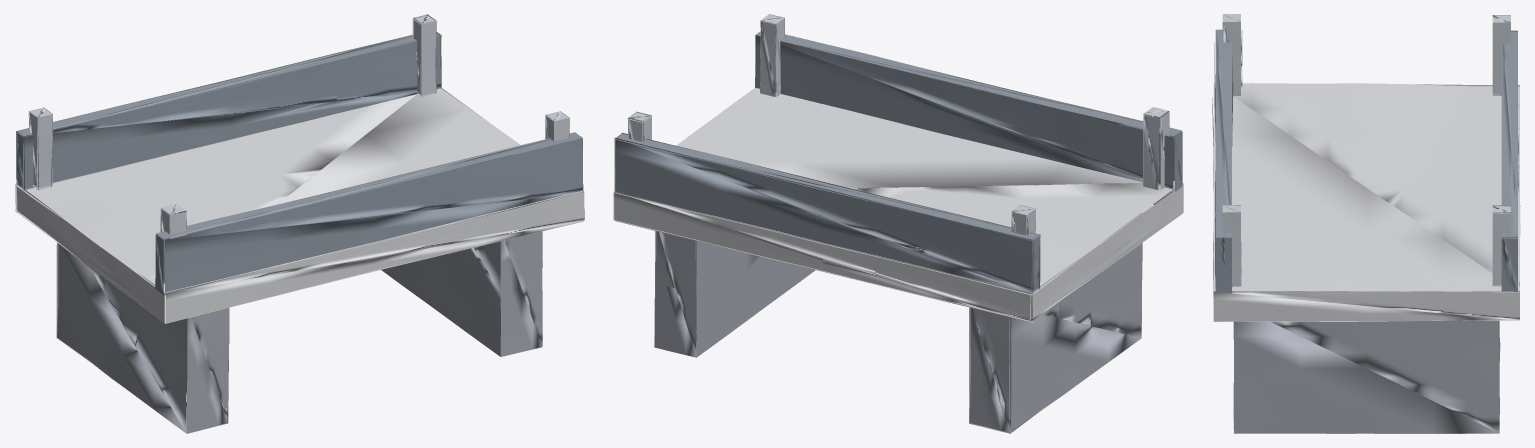
File: bridge.glb
The picture shows the model from 3 angles, left to right: view 1: azimuth 30°, elevation 25°; view 2: azimuth 150°, elevation 25°; view 3: azimuth 270°, elevation 25°; orthographic projection.
Parts seen in each view (by area): view 1: MetroBridge; view 2: MetroBridge; view 3: MetroBridge.
Part boxes in pixels (<box>): MetroBridge: <box>15,14,584,433</box>; MetroBridge: <box>613,14,1183,433</box>; MetroBridge: <box>1212,14,1520,433</box>.
Bounding box in the file's own units: 2.41 × 1.26 × 1.51.
